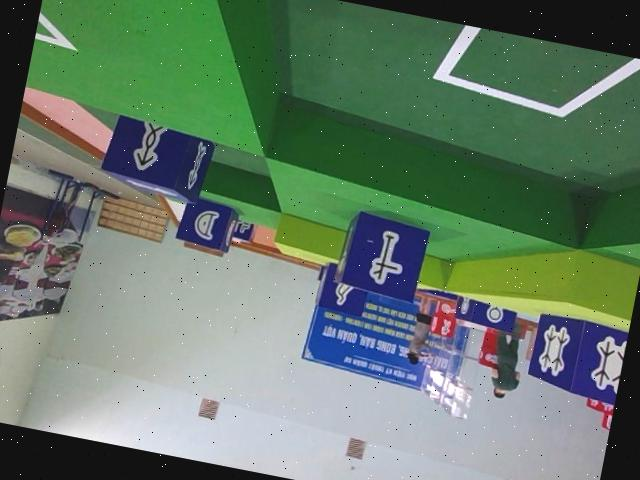R2 Real Blue: (97, 110, 217, 204), (522, 308, 630, 406), (329, 205, 429, 302), (175, 194, 240, 253), (313, 261, 371, 319), (453, 293, 518, 331)
